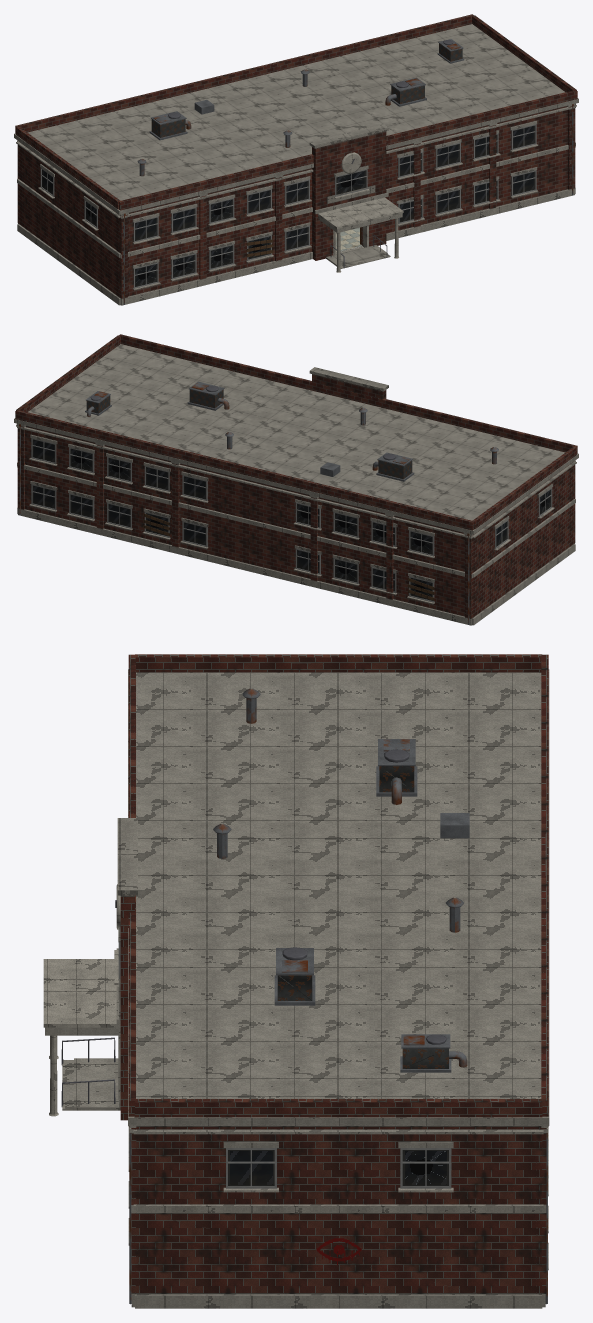
Rendered from school.glb.
The picture shows the model from 3 angles, top to bottom: view 1: azimuth 30°, elevation 25°; view 2: azimuth 150°, elevation 25°; view 3: azimuth 270°, elevation 25°; orthographic projection. The views are drawn at different scales.
Visible parts, largest first — view 1: shell-col, detail; view 2: shell-col, detail; view 3: shell-col, detail.
Part boxes in pixels (left/top/right/bottom): shell-col: left=14, top=14, right=578, bottom=297; detail: left=16, top=39, right=576, bottom=305; shell-col: left=14, top=334, right=578, bottom=617; detail: left=16, top=367, right=576, bottom=625; shell-col: left=45, top=654, right=549, bottom=1293; detail: left=43, top=688, right=548, bottom=1308.
Size of what is drawn, in the model's own units: 36.5 by 9.1 by 17.4.
Materials: 42 (42 with a texture image).
